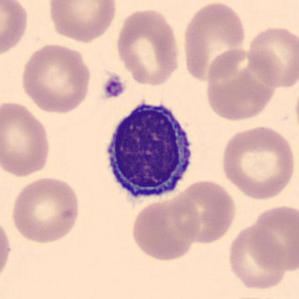Lymphocyte: (97, 96, 200, 208)
Platelets: (101, 73, 127, 101)
RBC: (218, 123, 298, 201), (203, 47, 280, 123), (179, 0, 248, 83), (114, 6, 183, 87), (18, 41, 93, 115), (9, 174, 83, 246), (129, 192, 202, 263), (168, 178, 238, 245), (225, 222, 290, 291), (0, 99, 53, 179), (247, 201, 299, 273), (244, 23, 298, 89), (45, 0, 119, 43), (0, 0, 31, 60), (0, 214, 14, 287)
